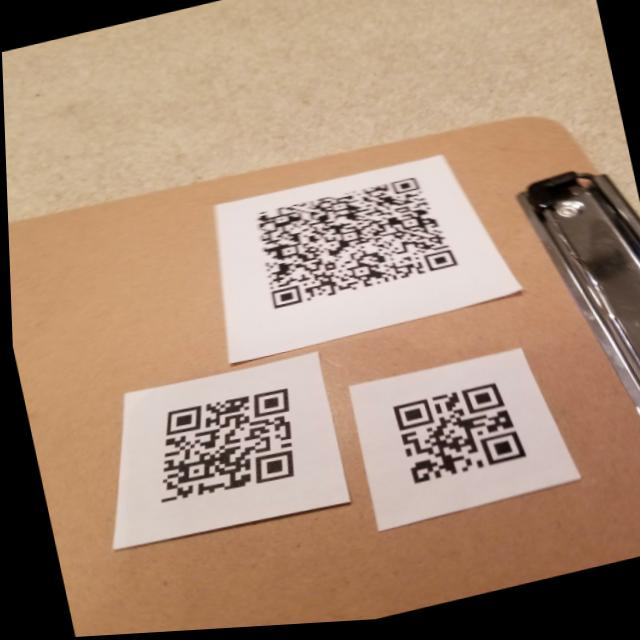QR_CODE: (232, 159, 471, 325), (127, 371, 318, 526), (374, 372, 538, 508)
